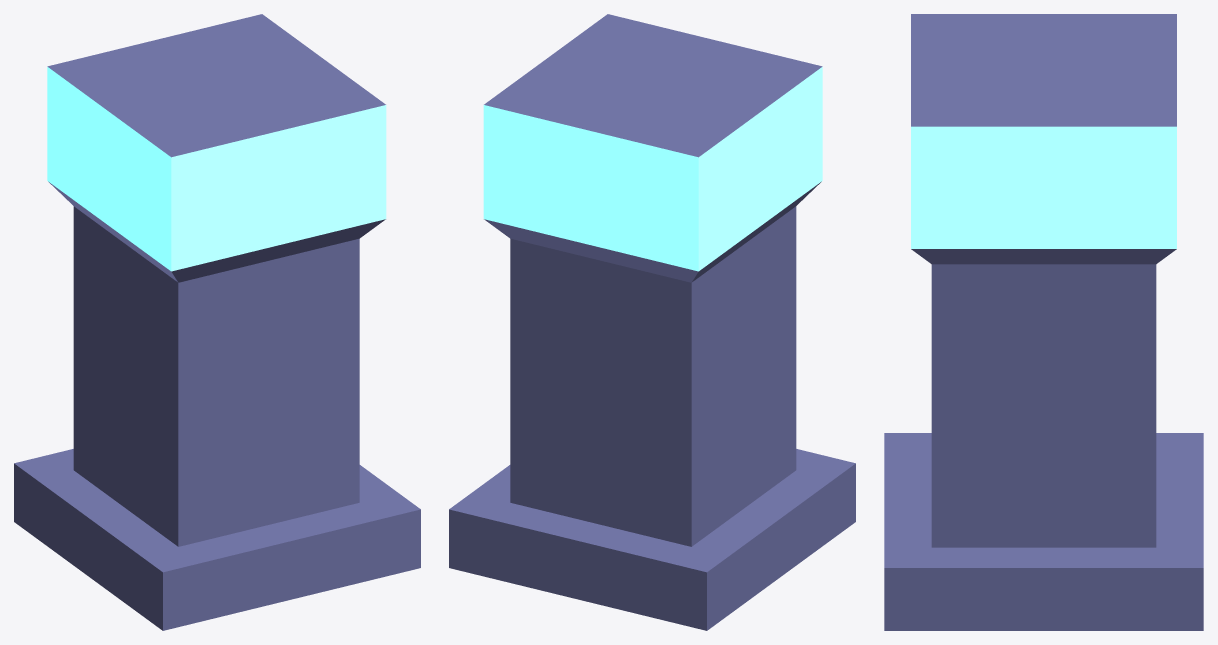
The model's file is Lightpost.fbx.
3 views of the same model, side by side, from view 1: azimuth 30°, elevation 25°; view 2: azimuth 150°, elevation 25°; view 3: azimuth 270°, elevation 25° (orthographic). The views are drawn at different scales.
Visible parts, largest first — view 1: Lightpost.001, Lightpost Base.001; view 2: Lightpost.001, Lightpost Base.001; view 3: Lightpost.001, Lightpost Base.001.
Boxes of the visible parts, x1,y1,x2,y2 form: Lightpost.001: (47, 14, 386, 546); Lightpost Base.001: (14, 449, 420, 630); Lightpost.001: (483, 14, 822, 546); Lightpost Base.001: (449, 449, 855, 630); Lightpost.001: (911, 14, 1176, 547); Lightpost Base.001: (884, 433, 1203, 630).
Size of the model in its own units: 1.22 by 2.08 by 1.22.
